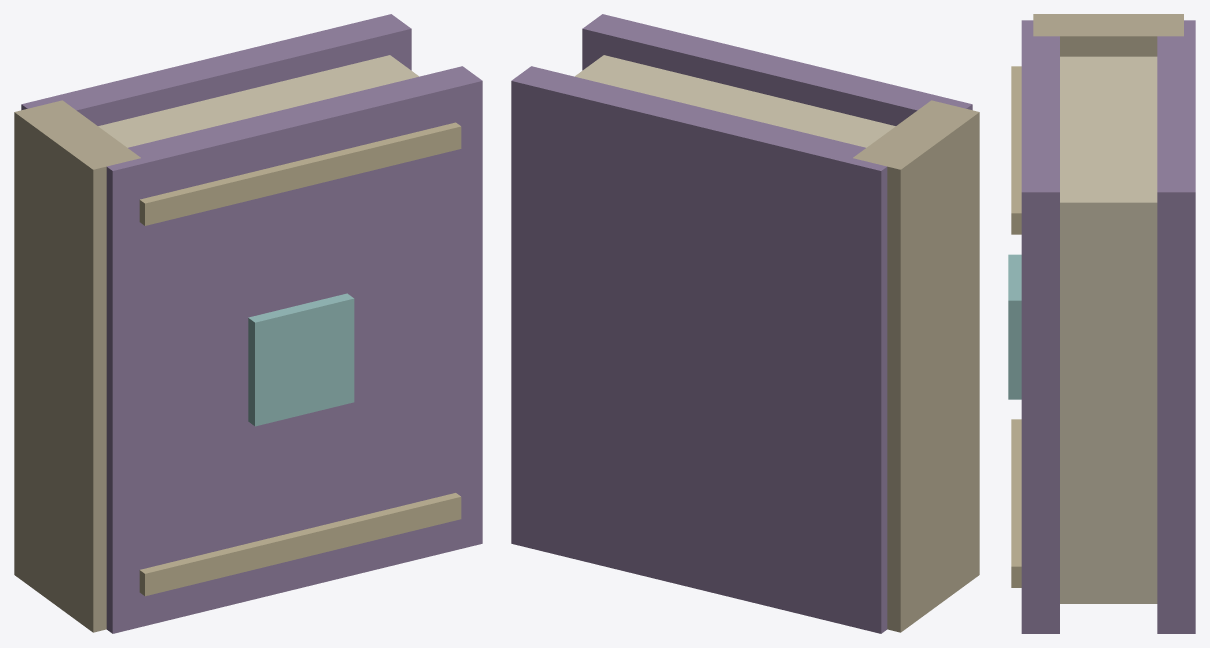
File: item_enchanted_book.glb
3 views of the same model, side by side, from view 1: azimuth 30°, elevation 25°; view 2: azimuth 150°, elevation 25°; view 3: azimuth 270°, elevation 25° (orthographic). The views are drawn at different scales.
Parts seen in each view (by area): view 1: item_enchanted_book; view 2: item_enchanted_book; view 3: item_enchanted_book.
Part boxes in pixels (x1,y1,x2,y2): item_enchanted_book: [14, 14, 482, 633]; item_enchanted_book: [511, 14, 979, 633]; item_enchanted_book: [1008, 14, 1195, 633].
Size of the model in its own units: 1.43 by 1.65 by 0.635.
